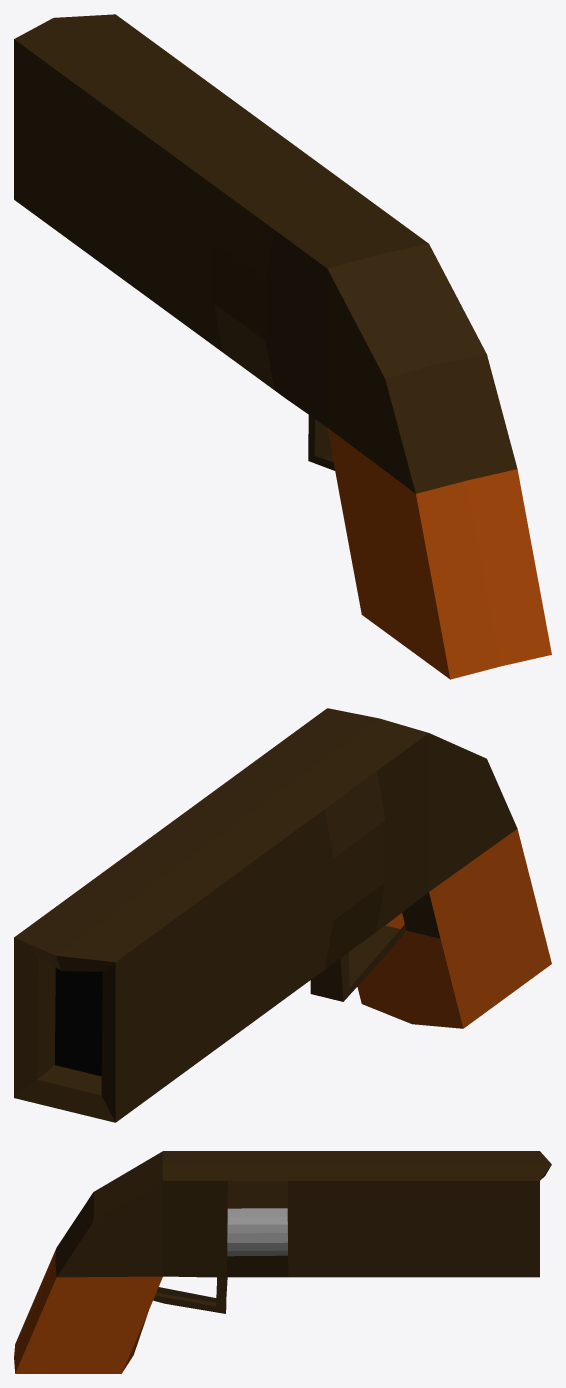
File: weapon1.fbx
3 renders of one model, top to bottom at view 1: azimuth 30°, elevation 25°; view 2: azimuth 150°, elevation 25°; view 3: azimuth 270°, elevation 25°, orthographic. The views are drawn at different scales.
Visible parts, largest first — view 1: Cube; view 2: Cube; view 3: Cube.
Part boxes in pixels (<box>): Cube: <box>14,14,551,679</box>; Cube: <box>14,708,551,1122</box>; Cube: <box>14,1151,551,1373</box>.
Bounding box in the file's own units: 105 × 201 × 505.
